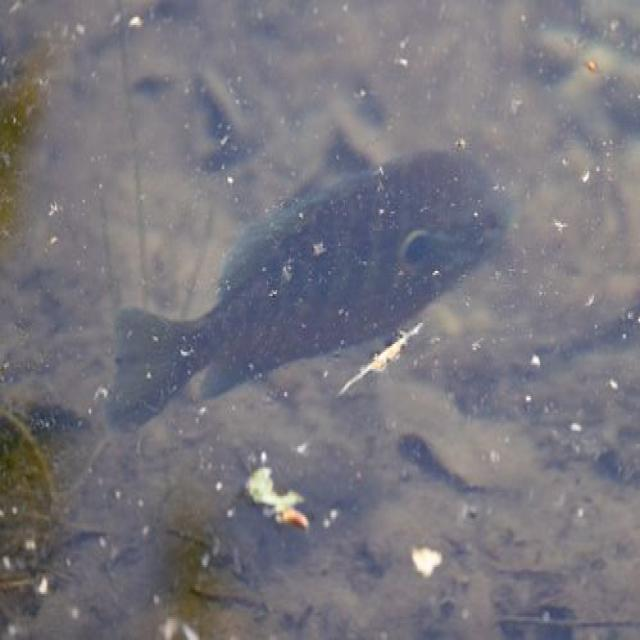Gunes Levregi: (106, 139, 521, 446)
